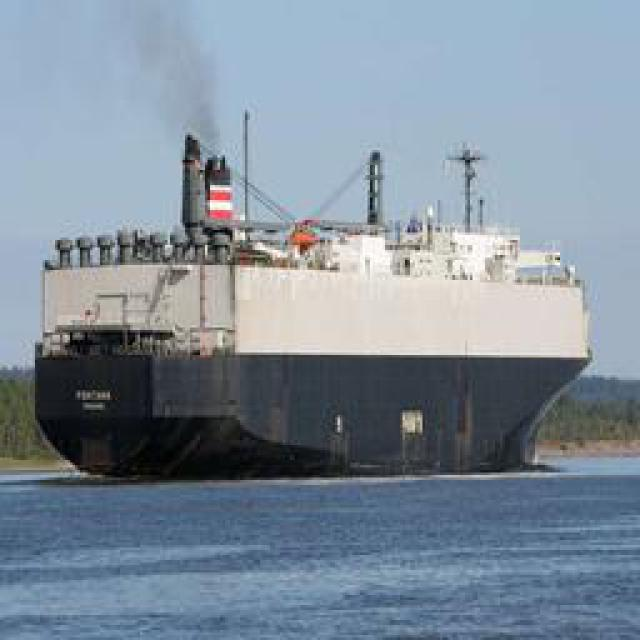Ship: (34, 125, 597, 468)
